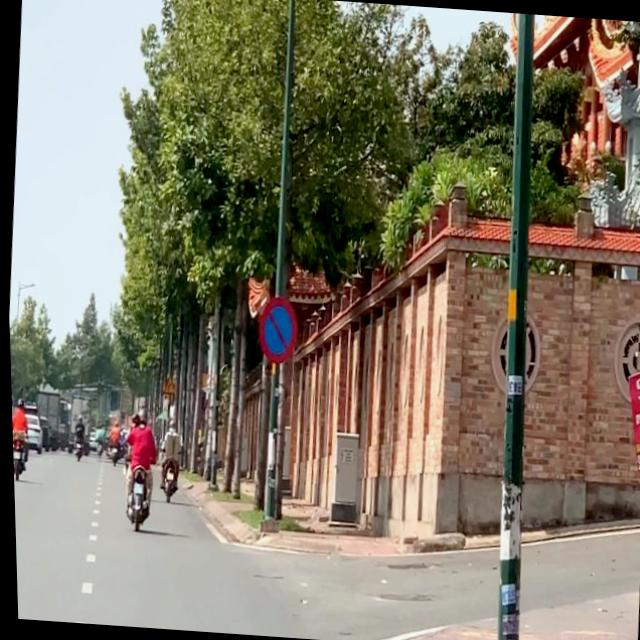Cam do xe: (251, 294, 301, 369)
cho ngoat nguy hiem vong ben phai: (158, 375, 174, 399)
